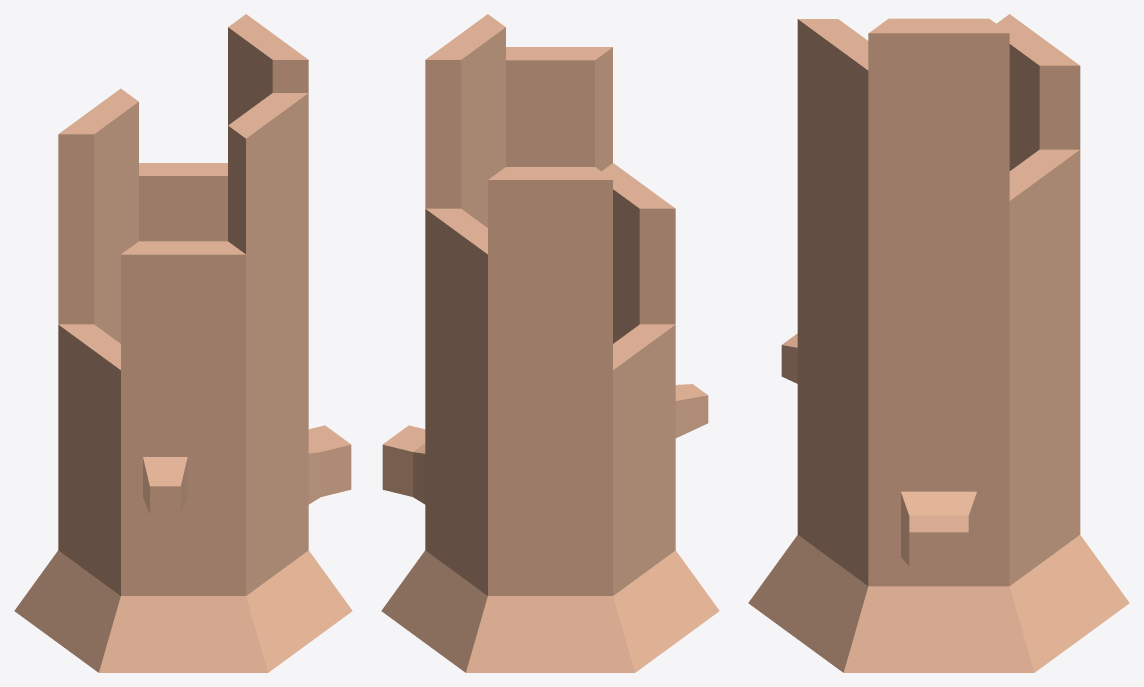
Rendered from stump_oldTall.glb.
The picture shows the model from 3 angles, left to right: view 1: azimuth 30°, elevation 25°; view 2: azimuth 150°, elevation 25°; view 3: azimuth 270°, elevation 25°; orthographic projection. The views are drawn at different scales.
Parts seen in each view (by area): view 1: stump_oldTall; view 2: stump_oldTall; view 3: stump_oldTall.
Boxes of the visible parts, box(x1,y1,x2,y2) form: stump_oldTall: box(14, 14, 352, 672); stump_oldTall: box(381, 14, 719, 672); stump_oldTall: box(748, 14, 1129, 672).
Bounding box in the file's own units: 0.3565 × 0.6665 × 0.371.
